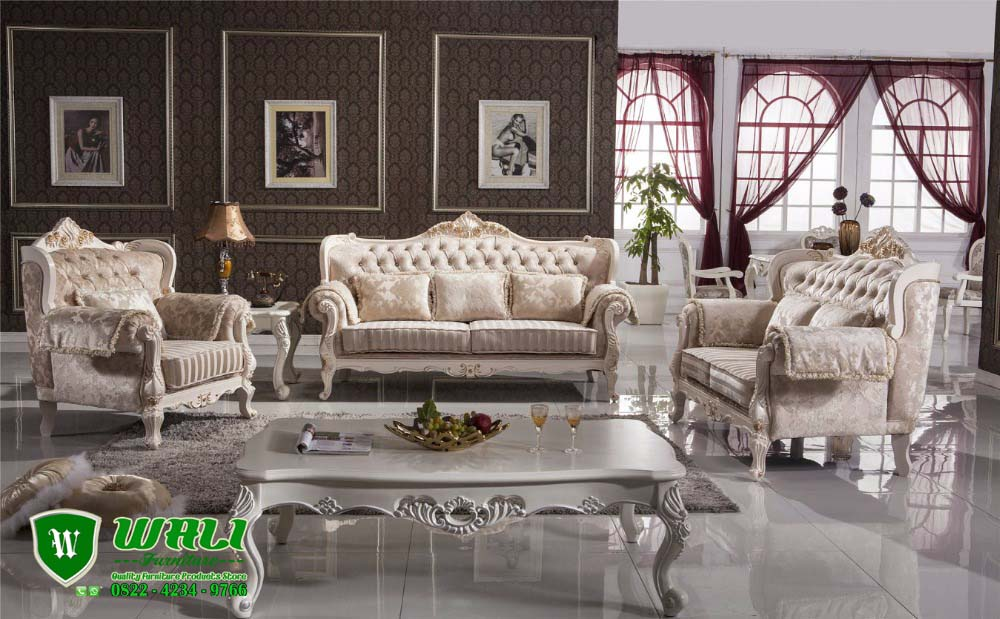Carving Chair: (686, 241, 934, 488), (320, 222, 631, 410), (20, 232, 260, 408)
Carving Table: (246, 417, 687, 611)
